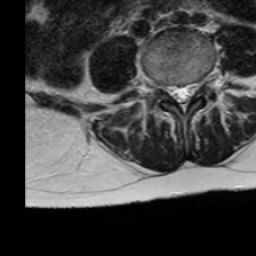CCS_normal: (177, 75, 186, 117)
LFS_normal: (195, 68, 204, 97)
LLS_normal: (186, 75, 196, 102)
RFS_stenosis: (157, 72, 166, 100)
RLS_normal: (166, 74, 177, 105)
